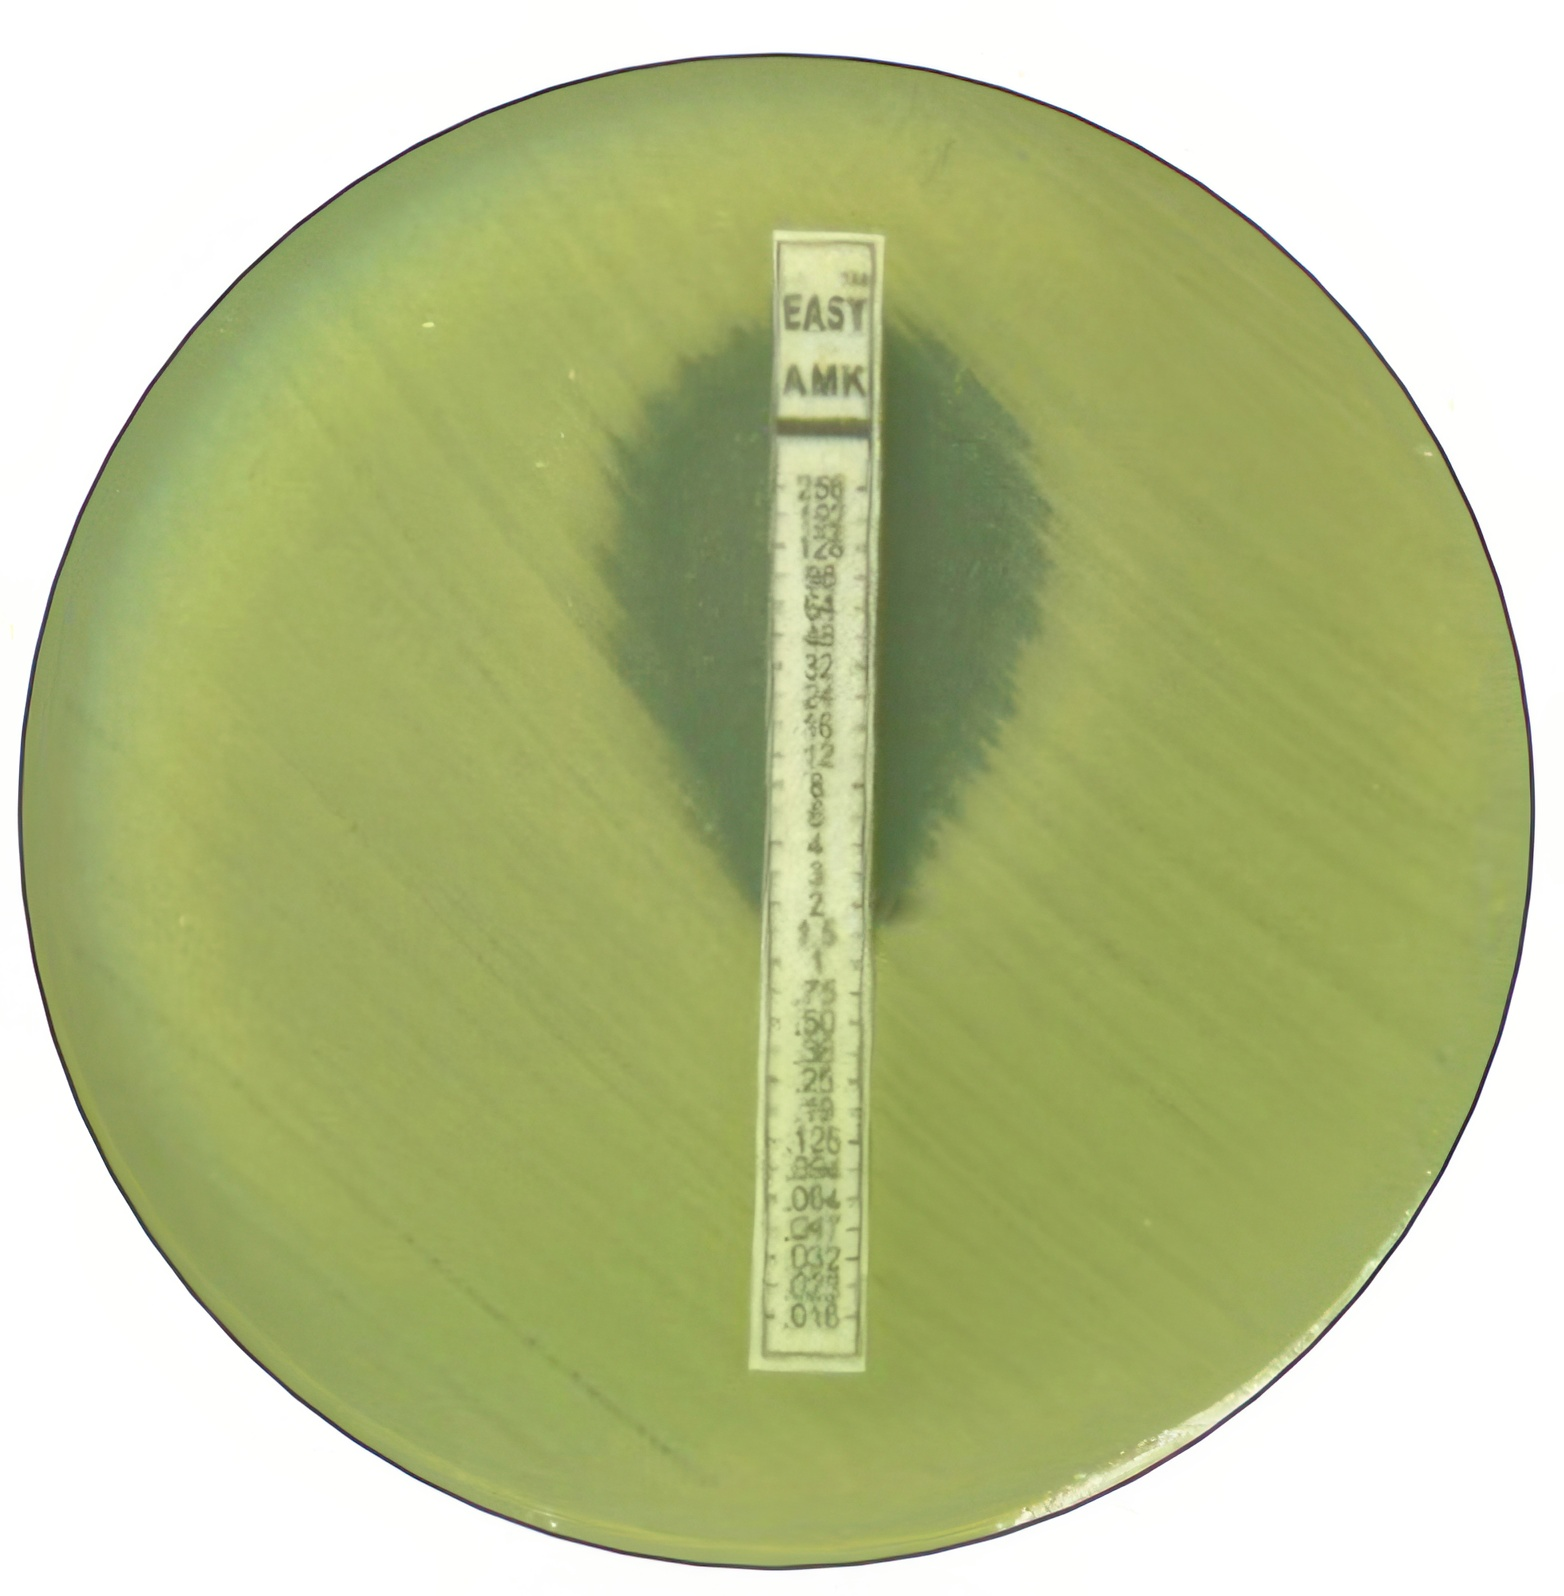line: (749, 228, 891, 1377)
zone: (613, 304, 1036, 924)
